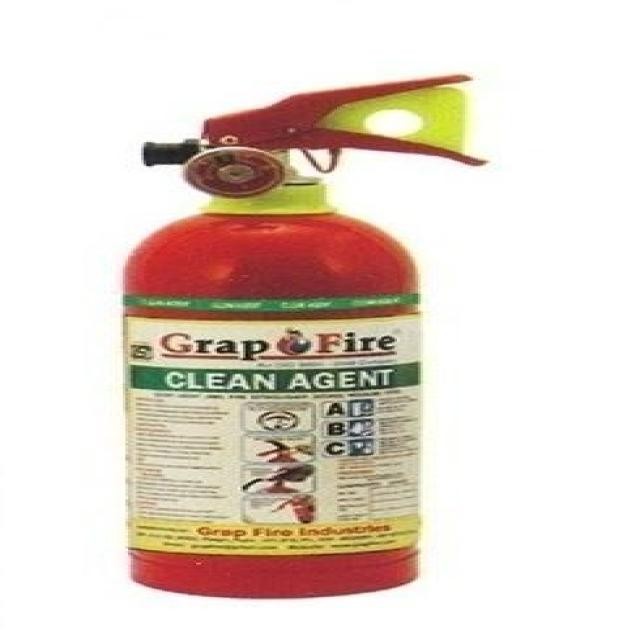fire_extinguisher: (99, 68, 499, 602)
